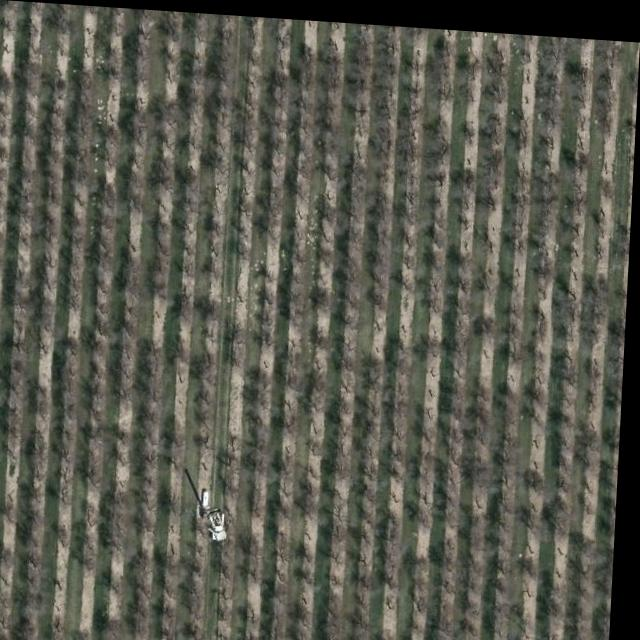vehicle: (215, 508, 233, 538)
